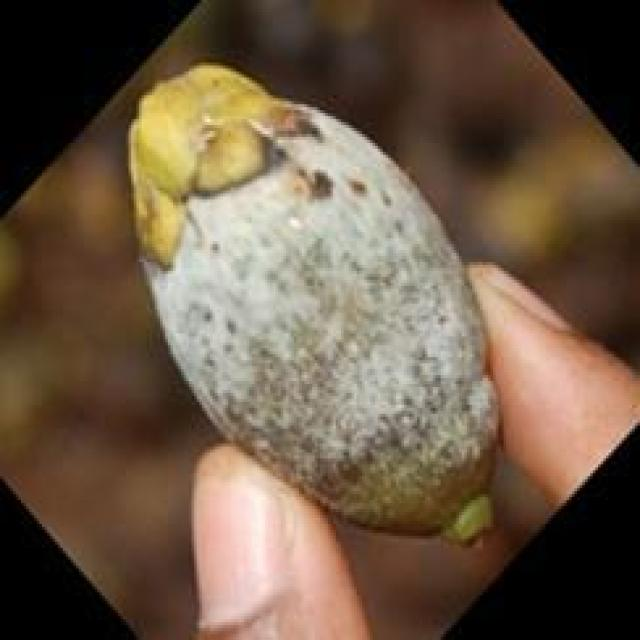damaged: (126, 65, 501, 548)
